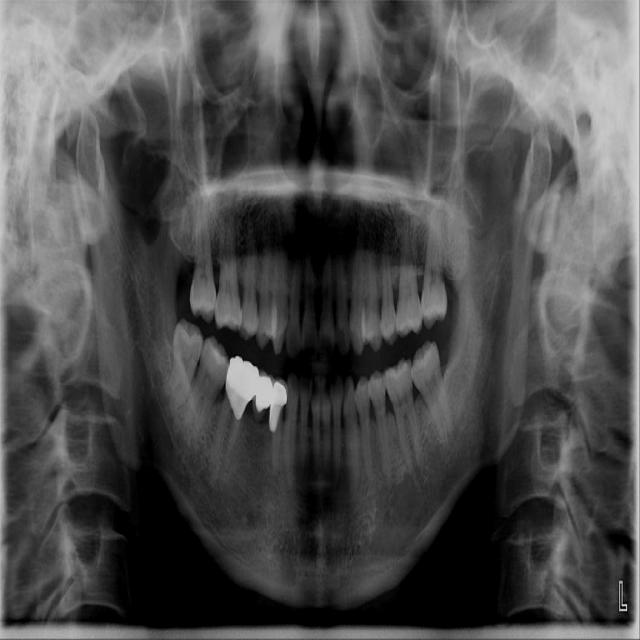Crown: (225, 356, 288, 433)
